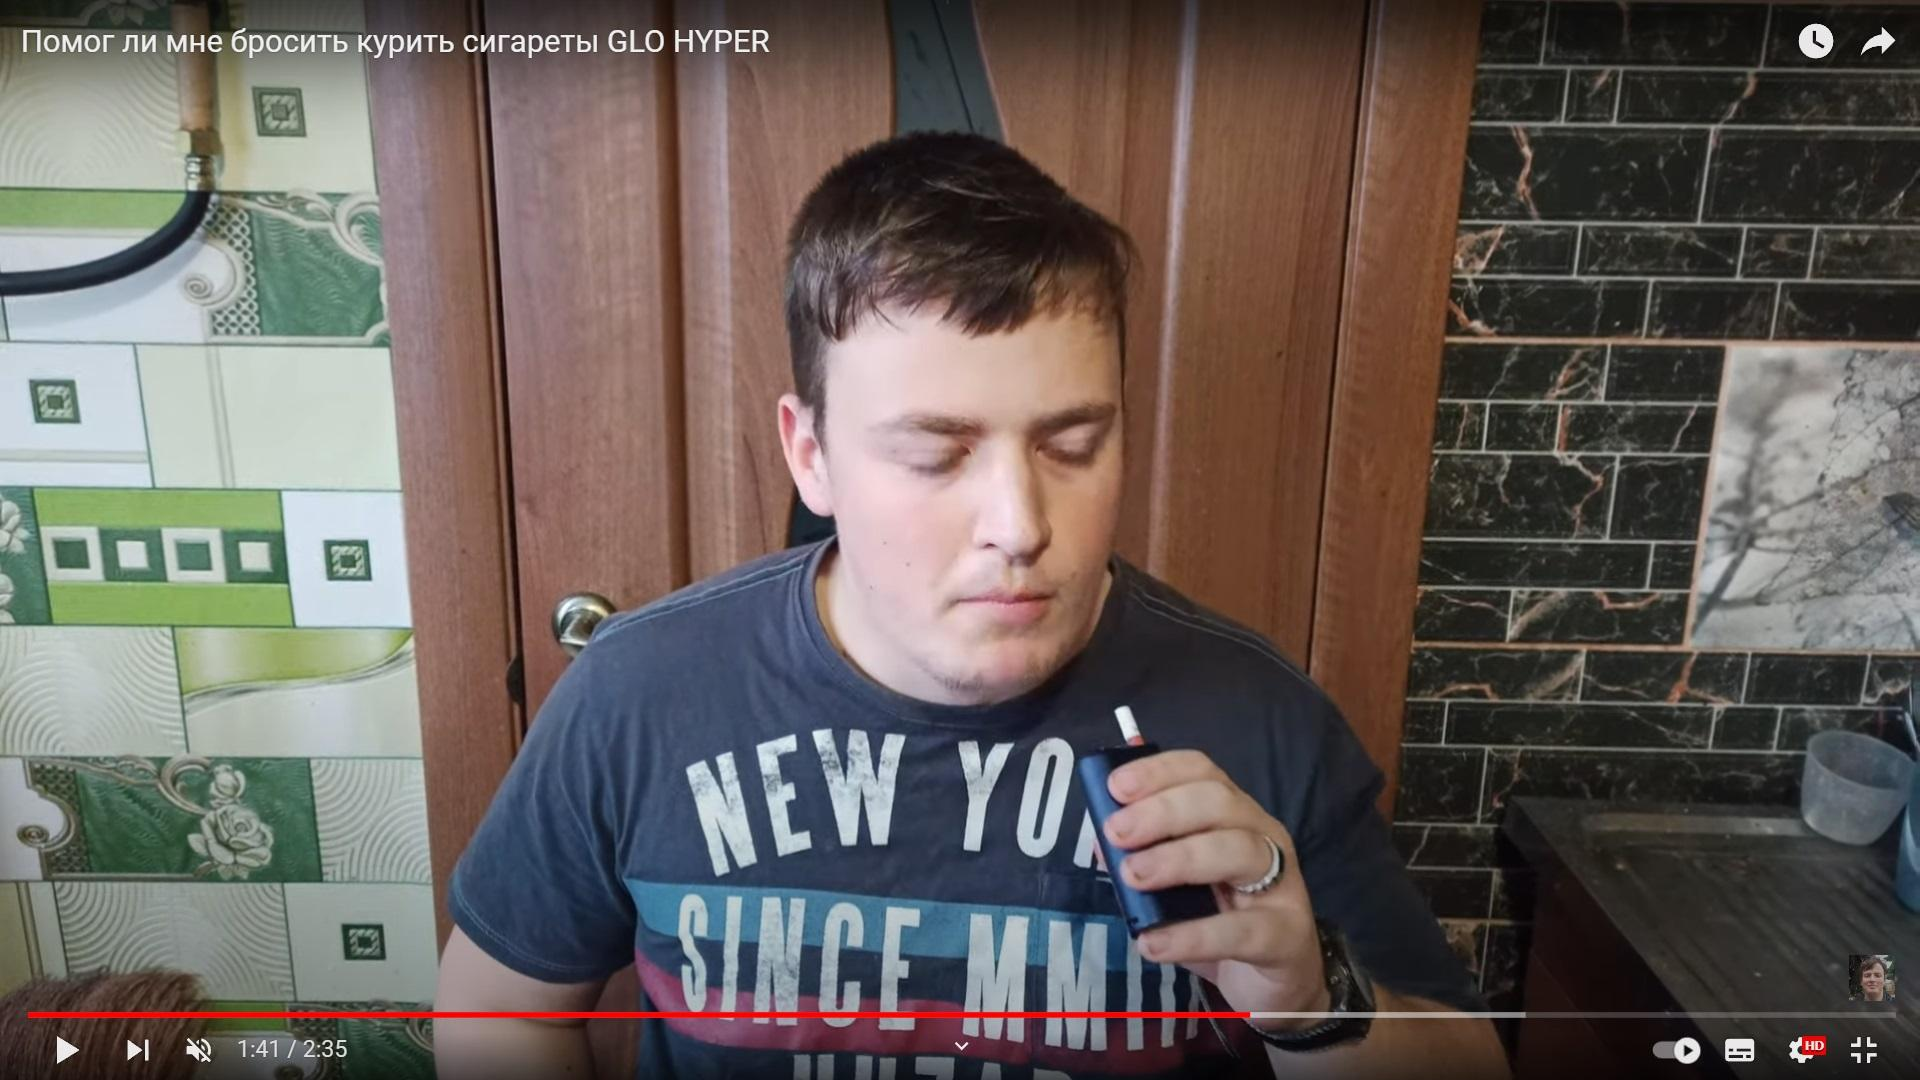iqos: (1075, 705, 1220, 939)
